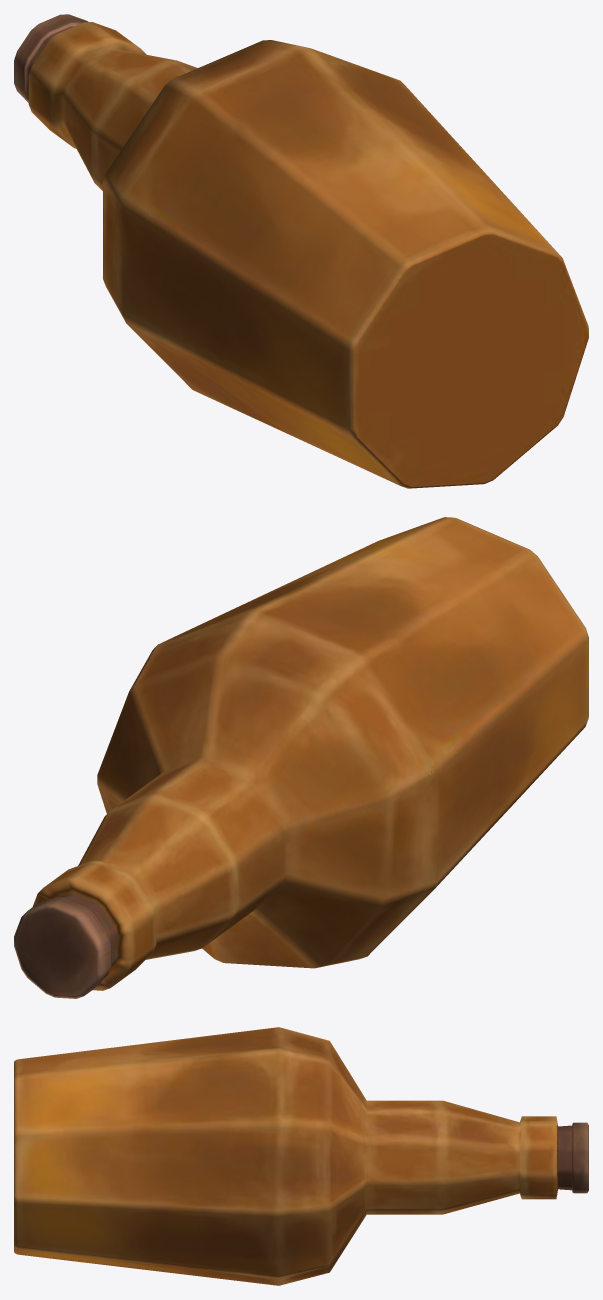
The model's file is Botella 3 Fin.FBX.
3 renders of one model, top to bottom at view 1: azimuth 30°, elevation 25°; view 2: azimuth 150°, elevation 25°; view 3: azimuth 270°, elevation 25°, orthographic. The views are drawn at different scales.
Parts seen in each view (by area): view 1: Botella3; view 2: Botella3; view 3: Botella3.
Part boxes in pixels (x1=…): Botella3: x1=14, y1=14, x2=588, y2=488; Botella3: x1=14, y1=517, x2=588, y2=998; Botella3: x1=14, y1=1027, x2=588, y2=1285.
Size of the model in its own units: 11.7 by 11.88 by 26.3.
Materials: 1 (1 with a texture image).
